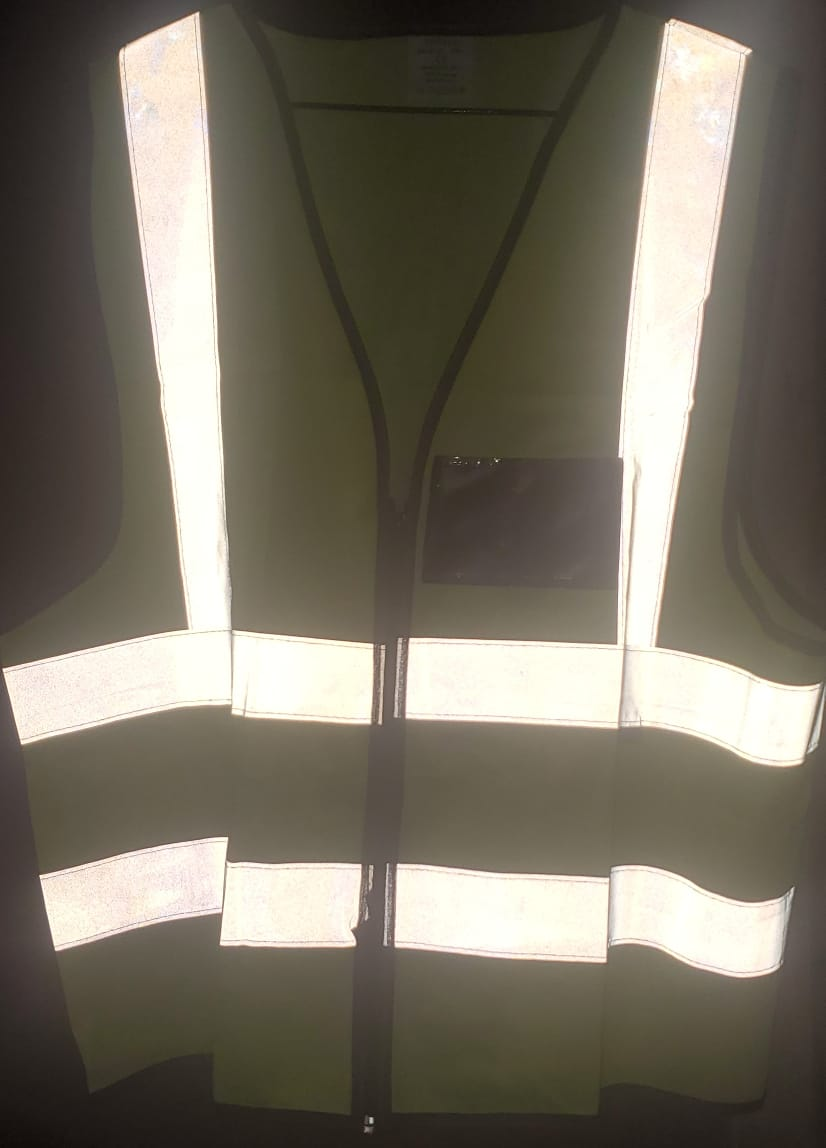vest: (12, 10, 826, 1120)
